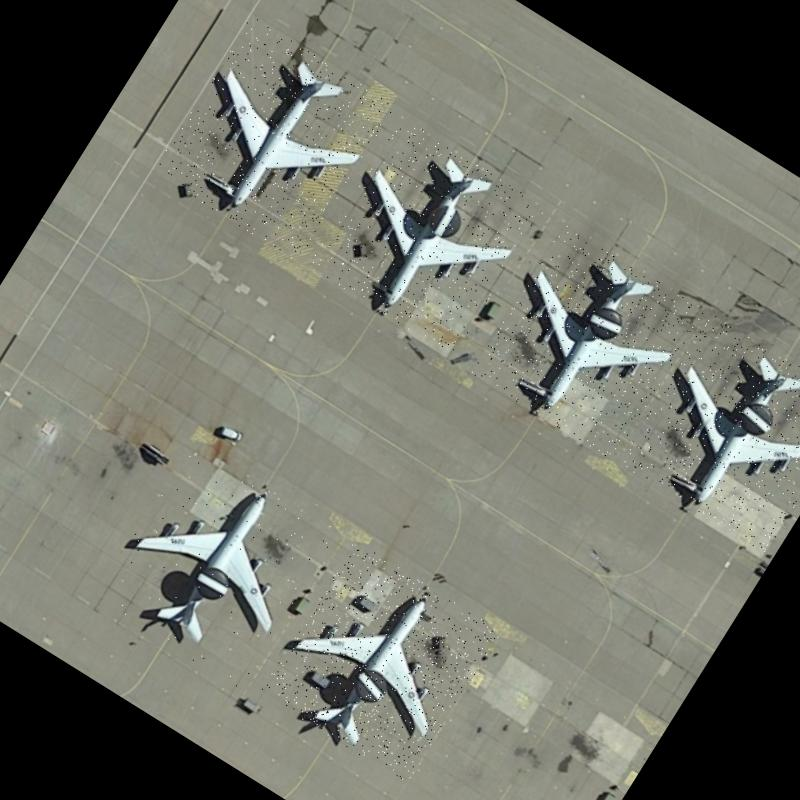A11: (152, 15, 395, 263)
A7: (92, 440, 338, 694), (260, 540, 503, 786), (307, 116, 546, 358), (470, 224, 706, 462), (617, 311, 800, 554)
